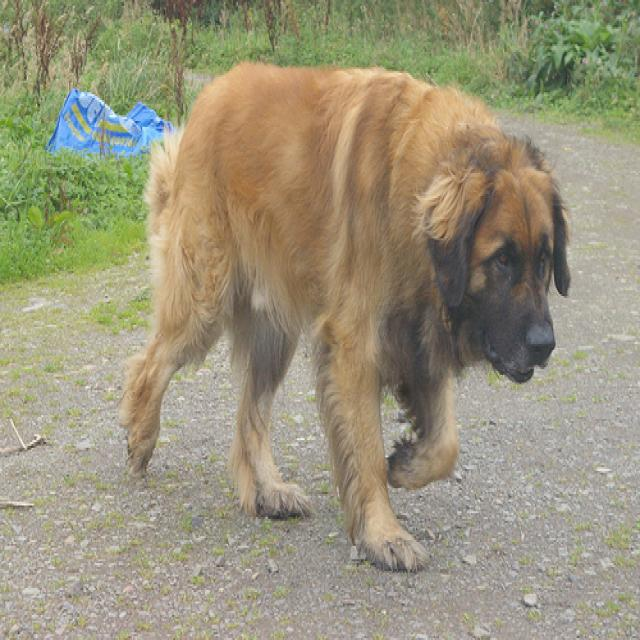dog-leonberger: (104, 46, 584, 588)
